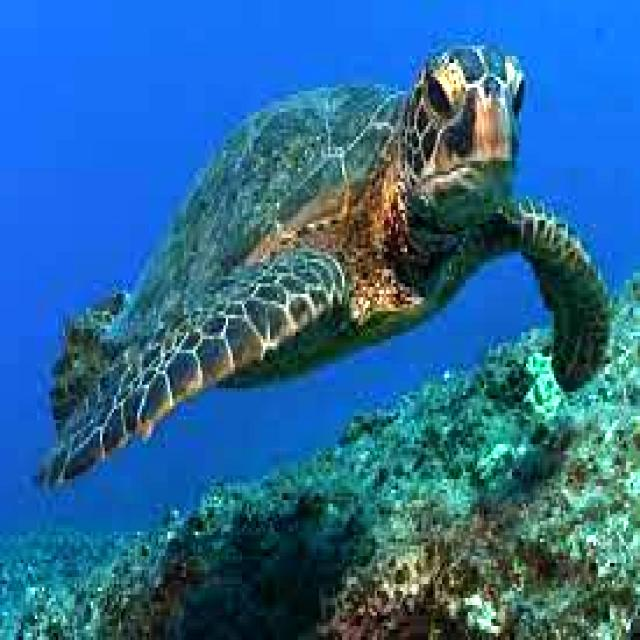Sea turtle: (49, 41, 620, 496)
